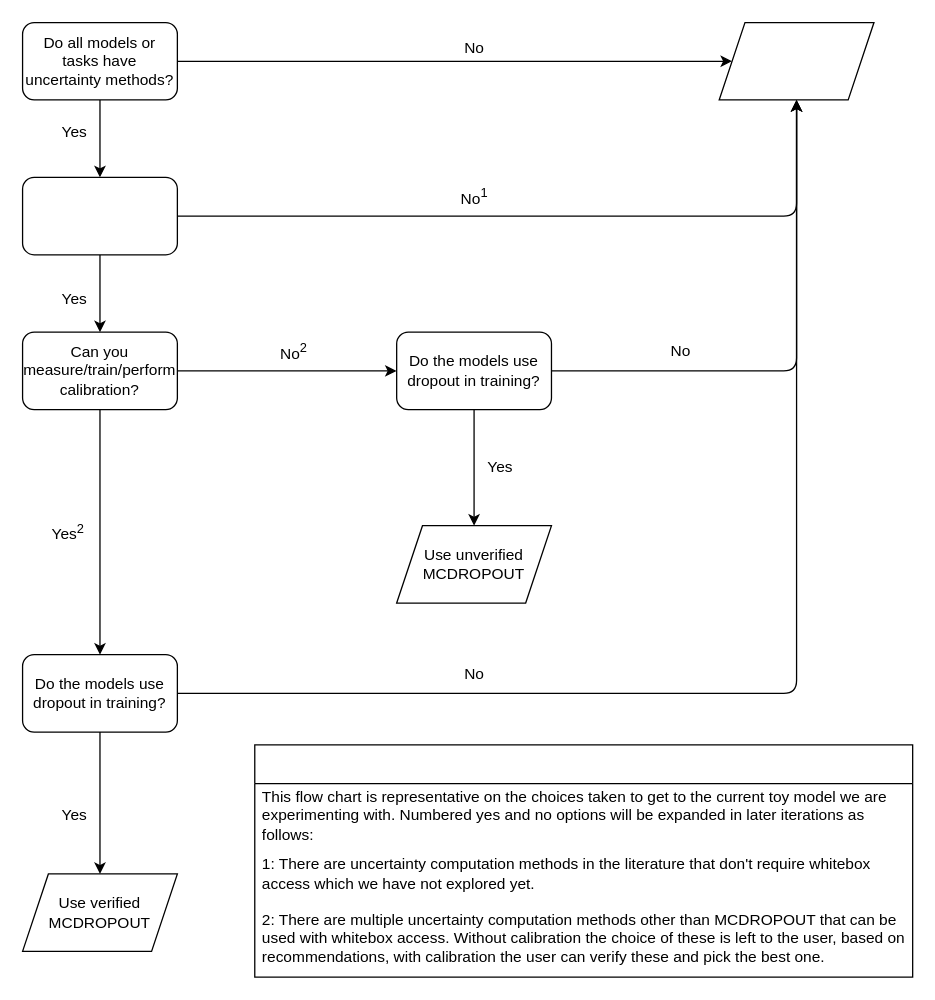
The diagram is 935 pixels wide and 1000 high, and some of its shapes have lost their labels. The box of each missing label's shape, as (x1, y1, x2, y2) in pixels:
Is white box access available?: (21, 176, 177, 255)
No uncertainty measurement possible: (718, 21, 874, 100)
Notes: (253, 744, 913, 977)
